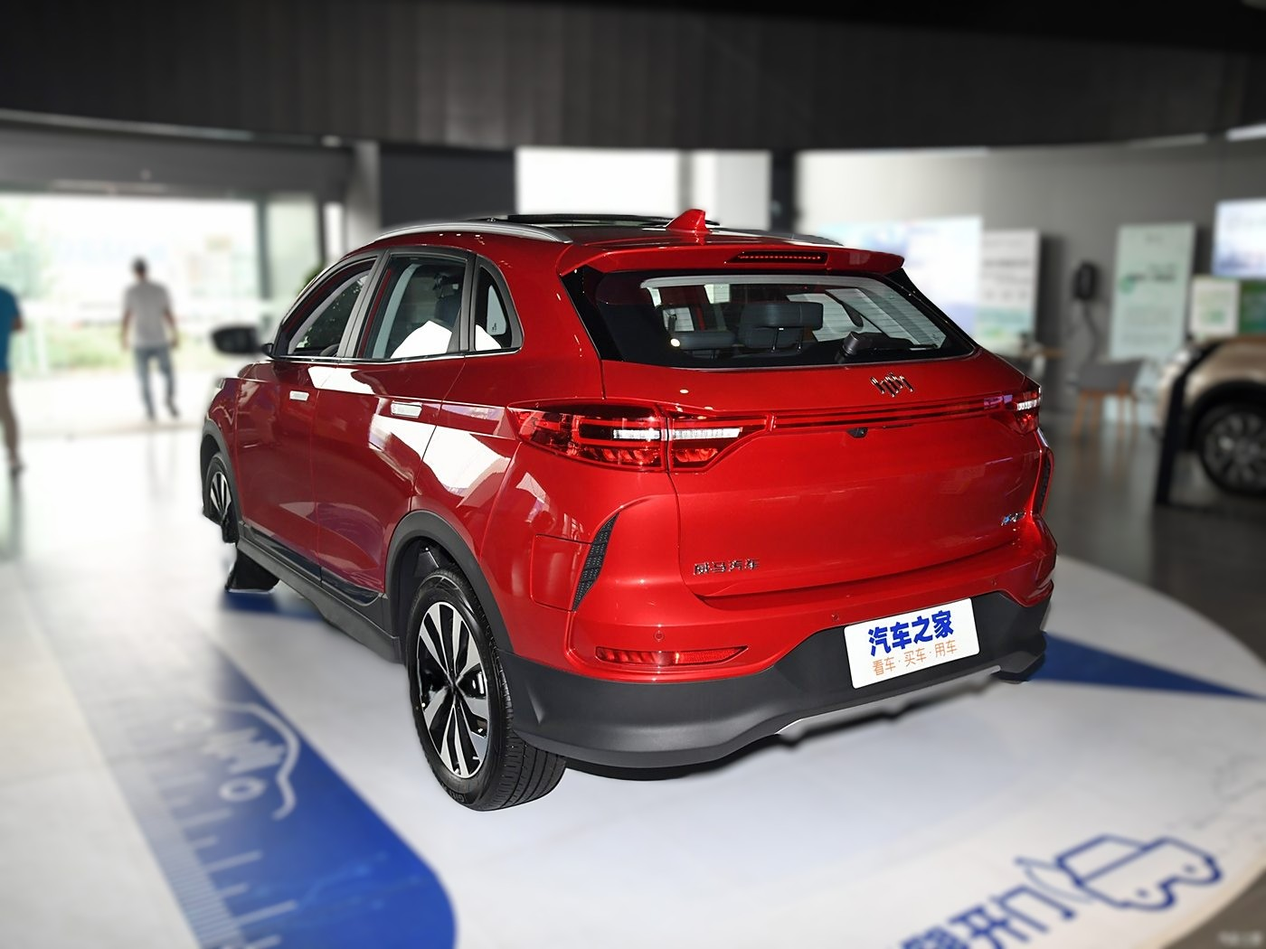WELTMEISTER: (871, 373, 912, 396)
